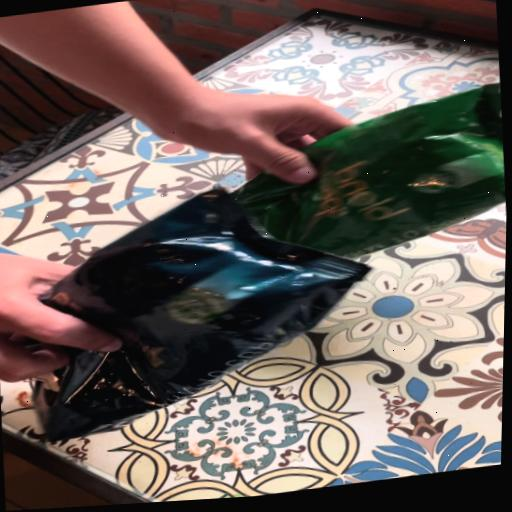cafe_hat: (35, 188, 370, 440)
cafe_xay: (237, 83, 506, 258)
